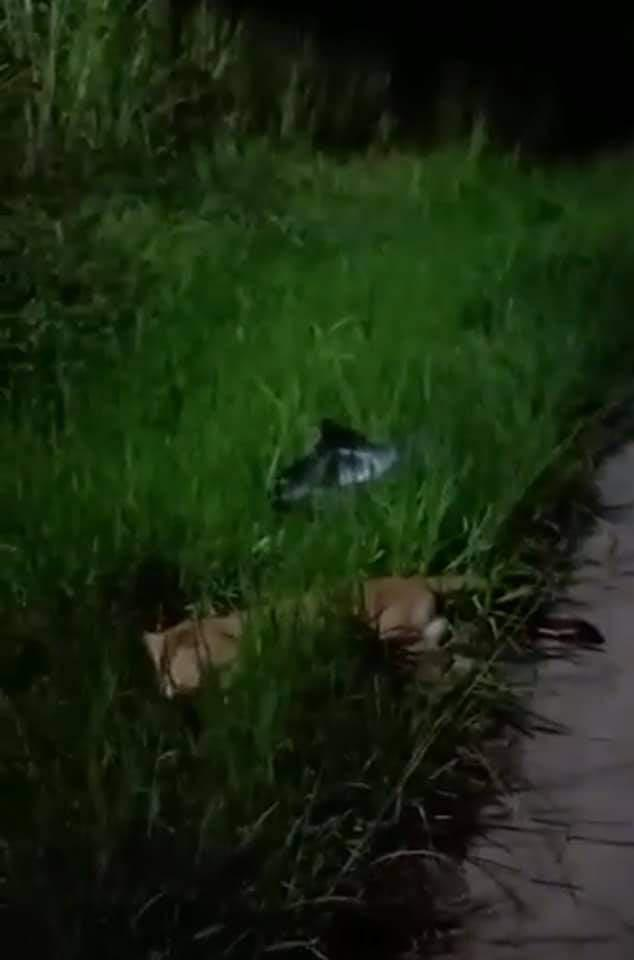OncaParda: (128, 565, 505, 701)
